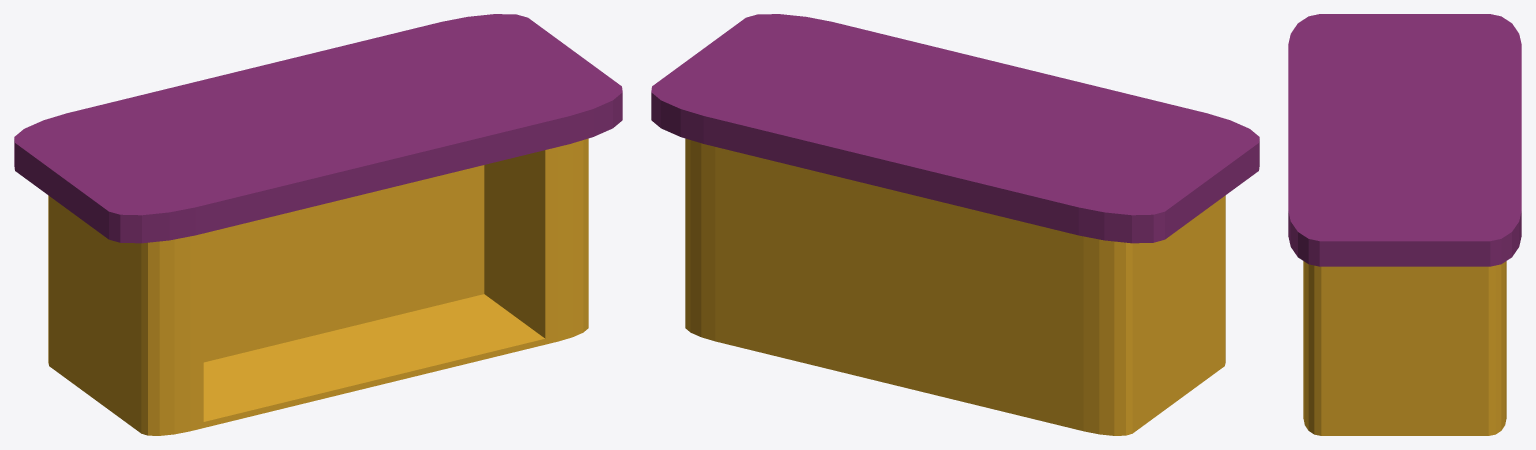
File: CashielCounter.fbx
3 renders of one model, left to right at view 1: azimuth 30°, elevation 25°; view 2: azimuth 150°, elevation 25°; view 3: azimuth 270°, elevation 25°, orthographic. The views are drawn at different scales.
Parts seen in each view (by area): view 1: CashielCounter; view 2: CashielCounter; view 3: CashielCounter.
Boxes of the visible parts, x1=… form: CashielCounter: x1=14, y1=14, x2=622, y2=435; CashielCounter: x1=651, y1=14, x2=1259, y2=435; CashielCounter: x1=1288, y1=14, x2=1521, y2=435.
Size of the model in its own units: 530 by 228 by 230.
